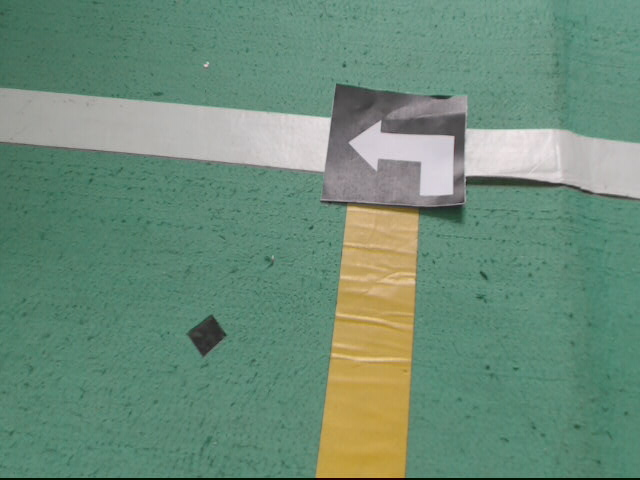left: (321, 83, 469, 212)
